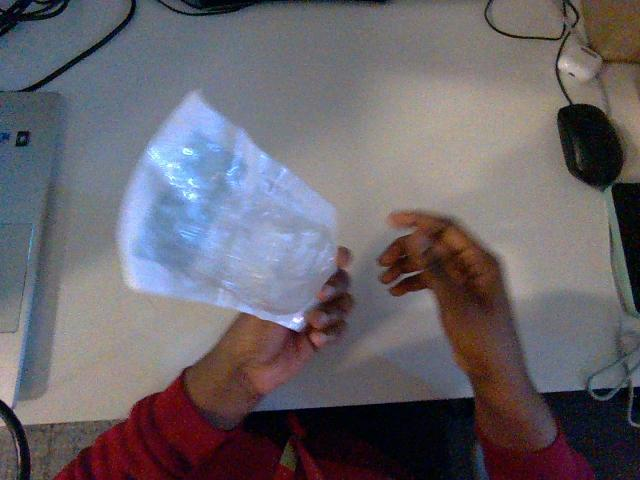gallipot: (118, 92, 336, 330)
